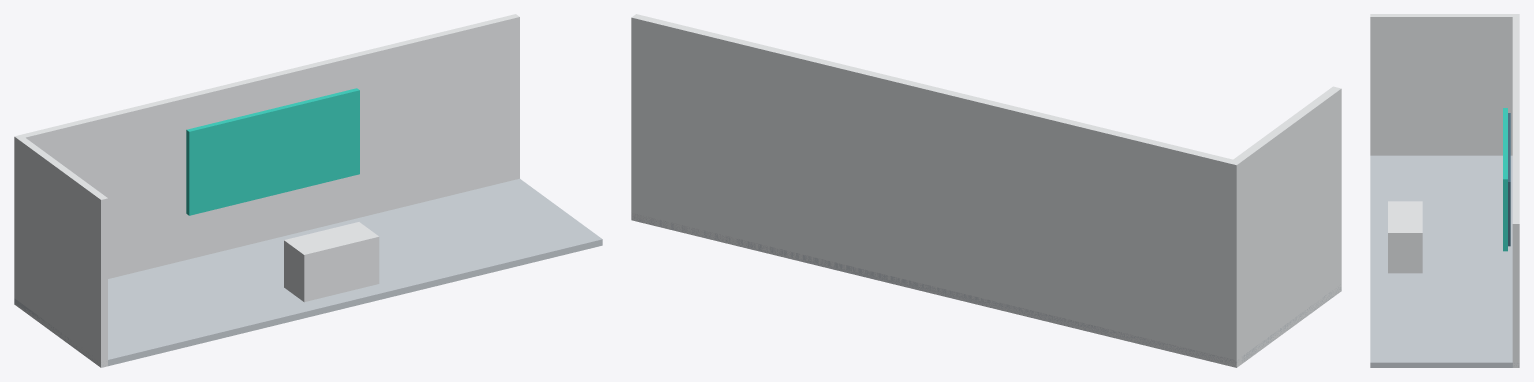
3 renders of one model, left to right at view 1: azimuth 30°, elevation 25°; view 2: azimuth 150°, elevation 25°; view 3: azimuth 270°, elevation 25°, orthographic. The views are drawn at different scales.
Visible parts, largest first — view 1: Exhibition Booth Concept; view 2: Exhibition Booth Concept; view 3: Exhibition Booth Concept.
Boxes of the visible parts, x1=… form: Exhibition Booth Concept: x1=14, y1=14, x2=602, y2=367; Exhibition Booth Concept: x1=631, y1=14, x2=1341, y2=367; Exhibition Booth Concept: x1=1370, y1=14, x2=1519, y2=367.
Bounding box in the file's own units: 10 × 3.2 × 3.
